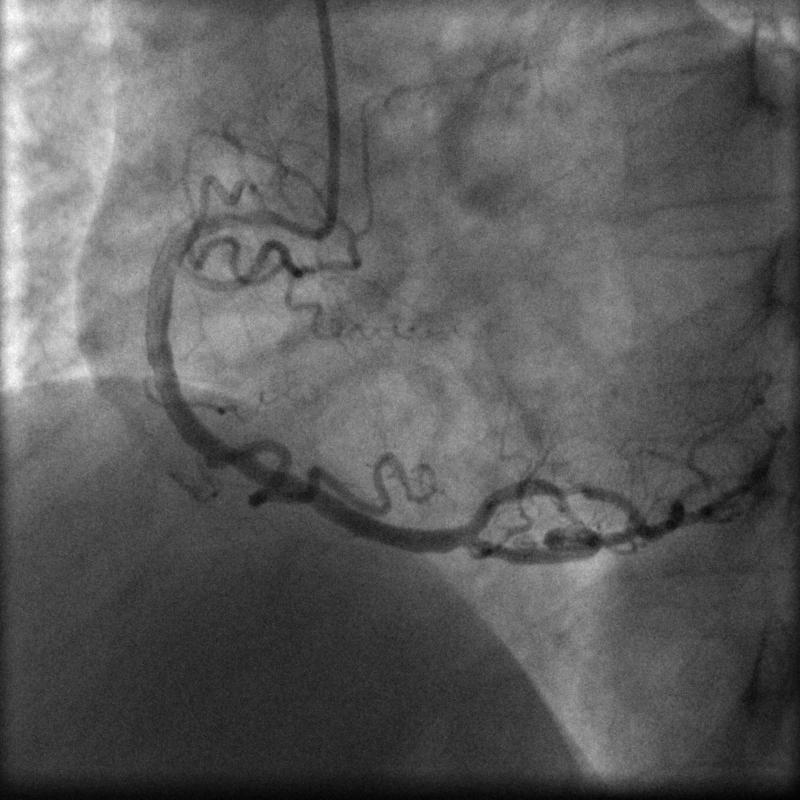Stenosis: (542, 474, 586, 508)
